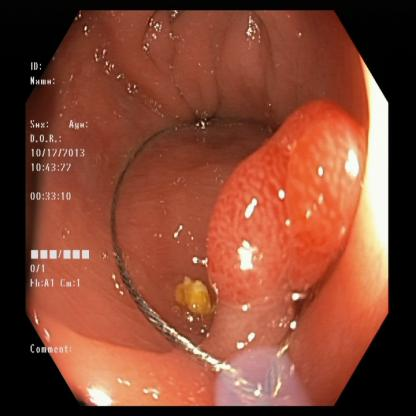Labels: (28, 57, 97, 367)
